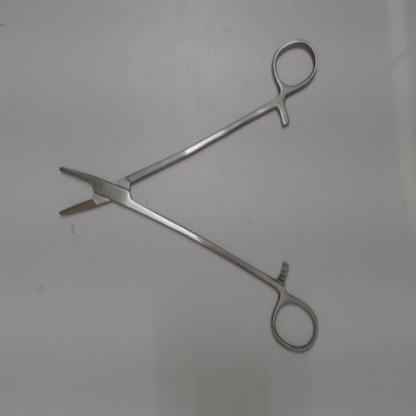8 Mayo Needle Holder: (50, 30, 325, 363)
